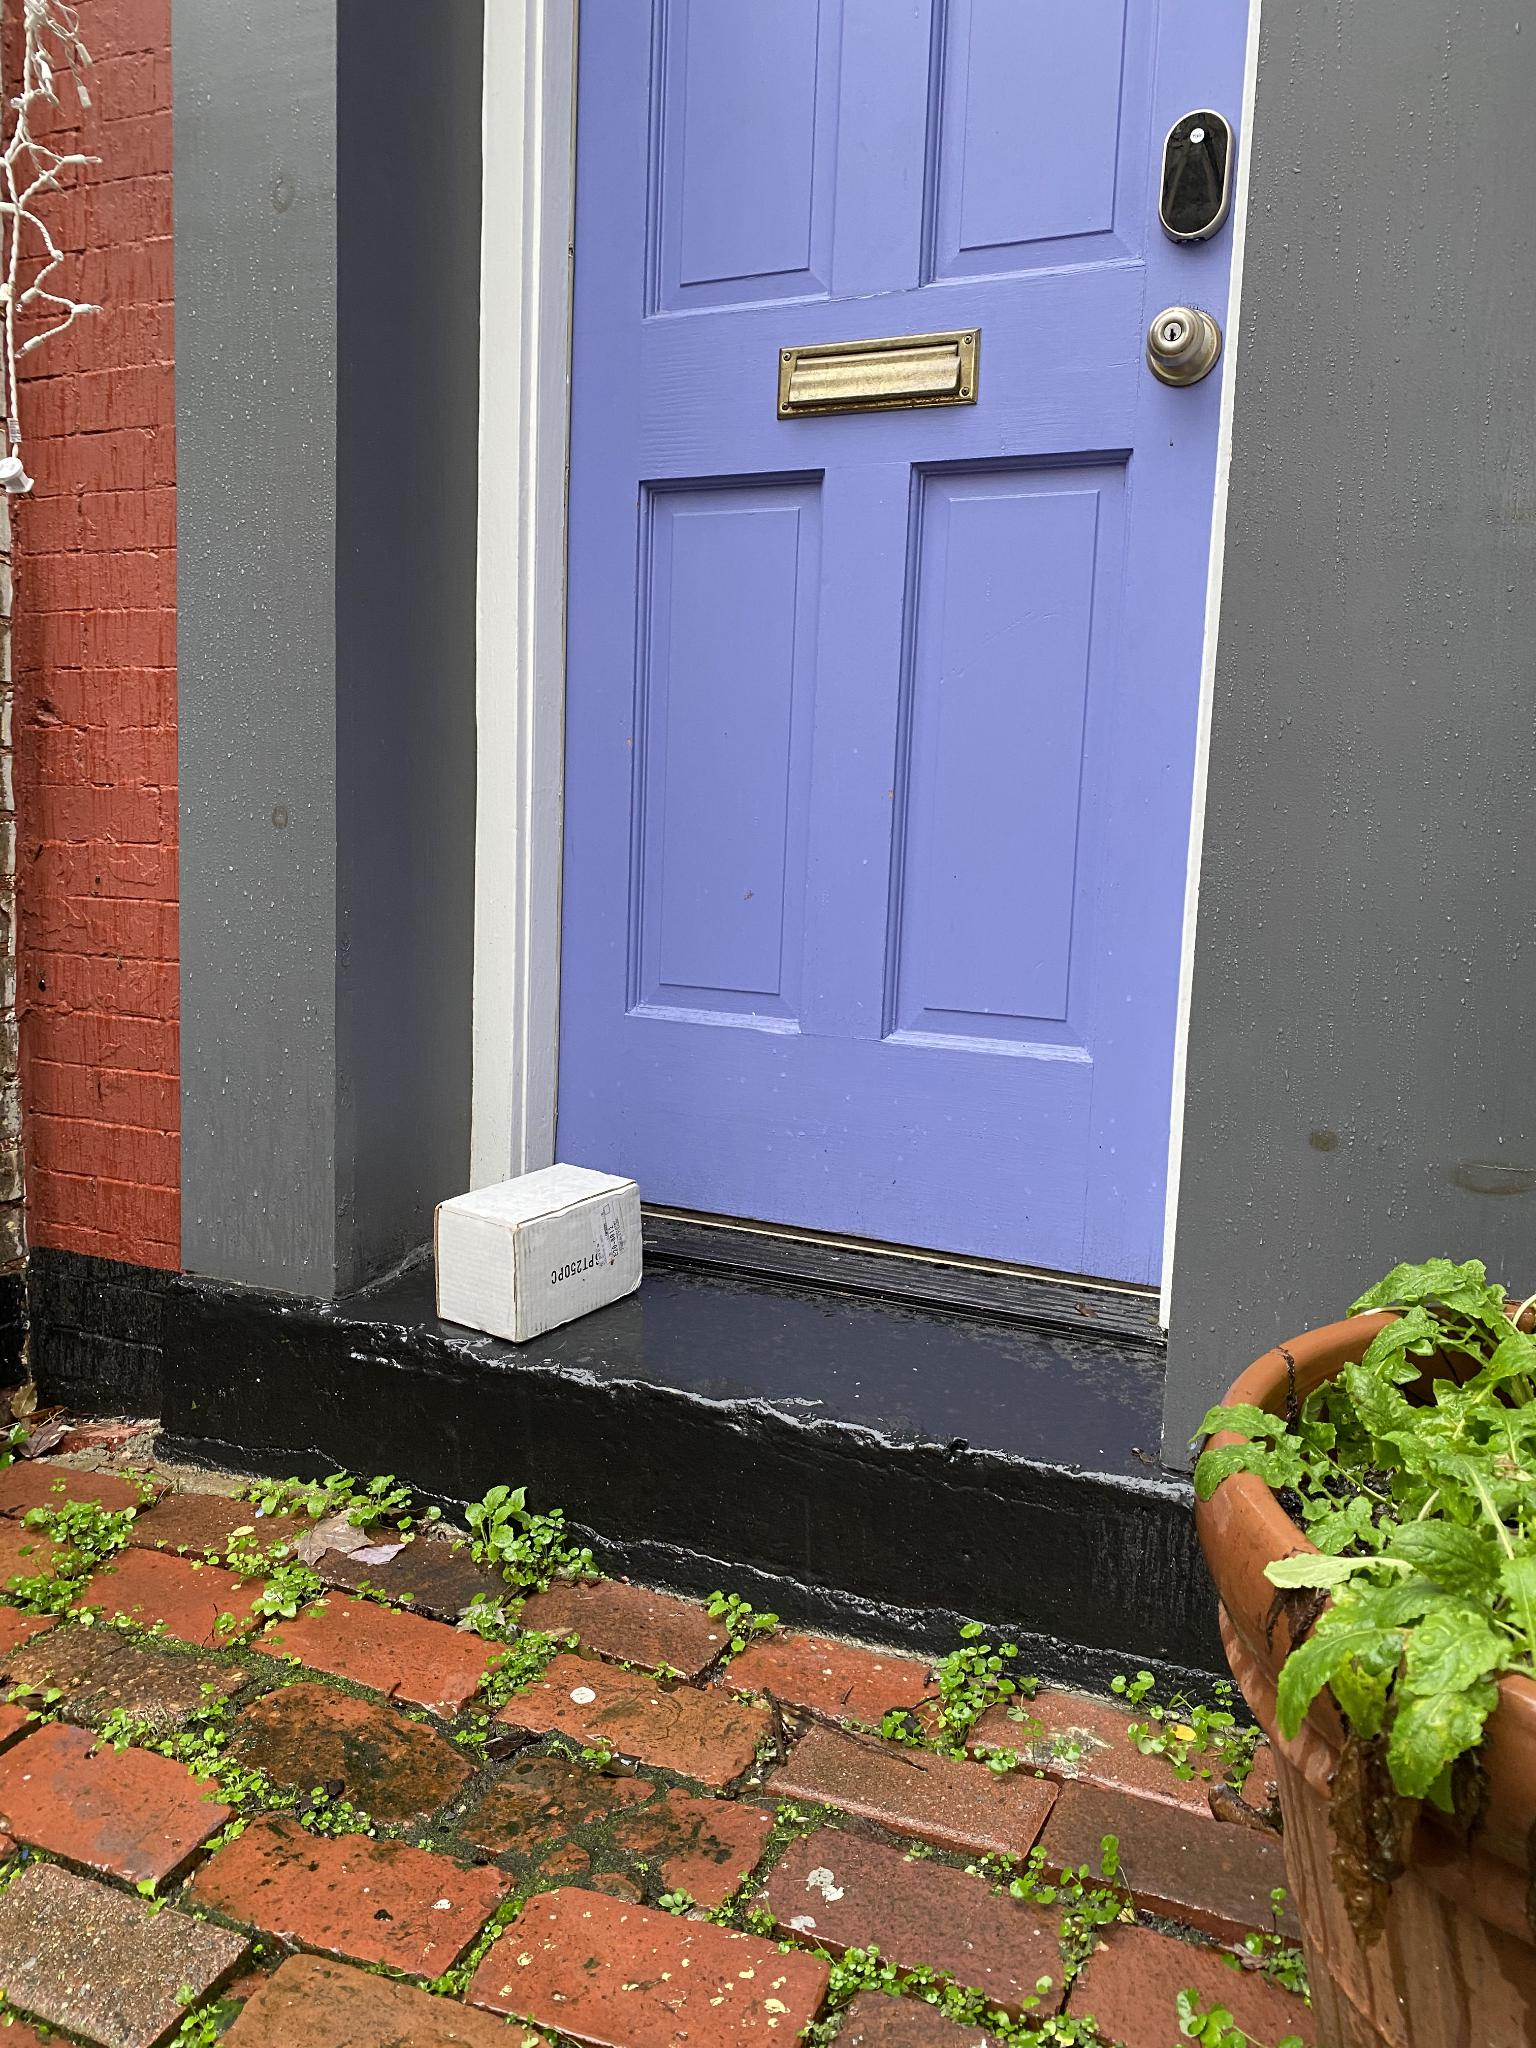package: (418, 1145, 652, 1358)
